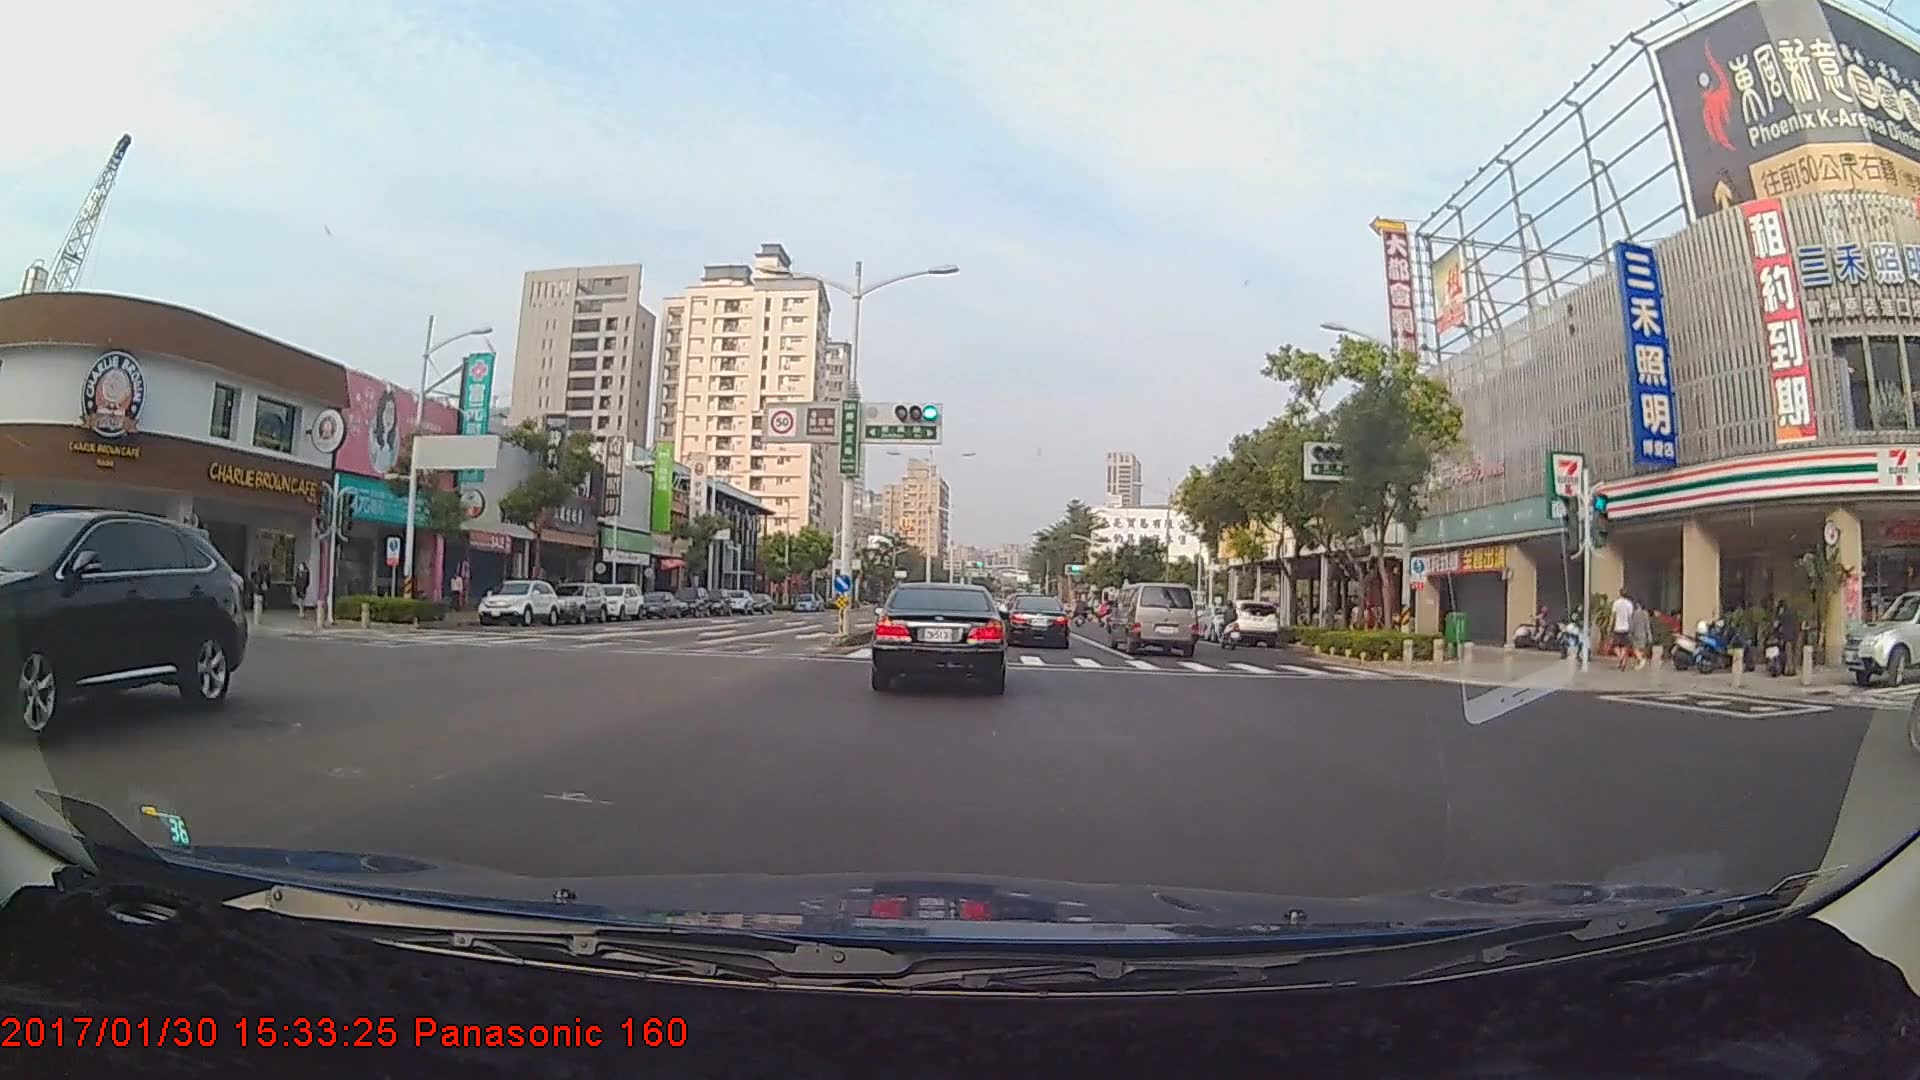pedestrian: (1605, 584, 1633, 673), (1630, 597, 1654, 673), (294, 561, 314, 621), (447, 571, 468, 616)
rider: (1211, 596, 1245, 649)
vehicle: (0, 512, 247, 737), (871, 580, 1005, 694), (1838, 589, 1919, 684), (1108, 581, 1197, 656), (473, 575, 561, 624), (1001, 595, 1070, 650), (1213, 596, 1280, 646), (547, 581, 606, 623), (592, 582, 645, 623), (637, 591, 679, 619)
